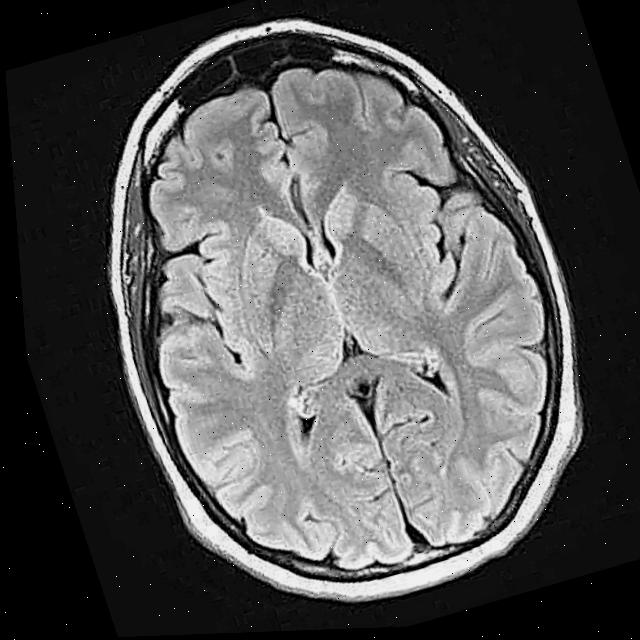NoTumor: (19, 0, 640, 639)
